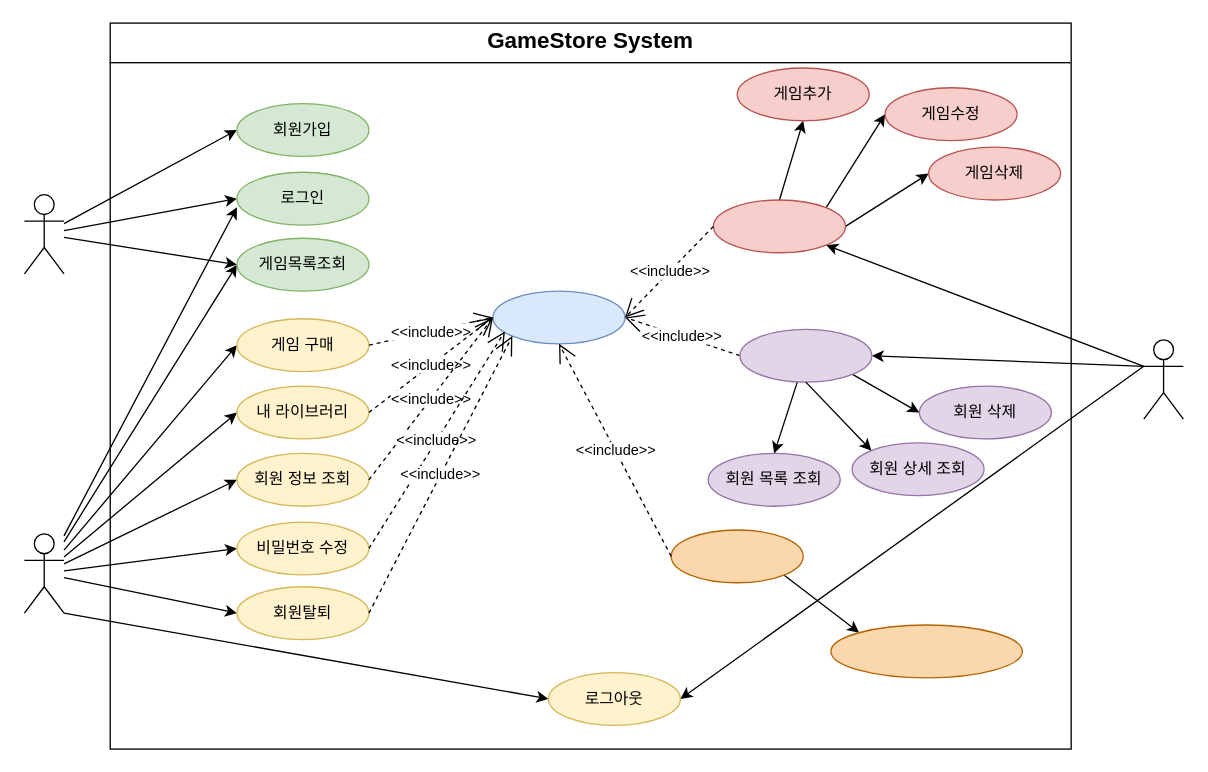
Image size: 1208x772. Some labels were removed from this diagram. The shapes that lost their labels are listed below. From the top down, each one's centre as x and y in pixels, then its label:
At point (43, 233): "비회원".
At point (778, 226): "게임관리".
At point (558, 317): "사용자 인증".
At point (805, 355): "회원관리".
At point (1162, 379): "관리자".
At point (43, 573): "회원".
At point (736, 556): "라이브러리 관리".
At point (926, 651): "회원별 라이브러리 조회".
